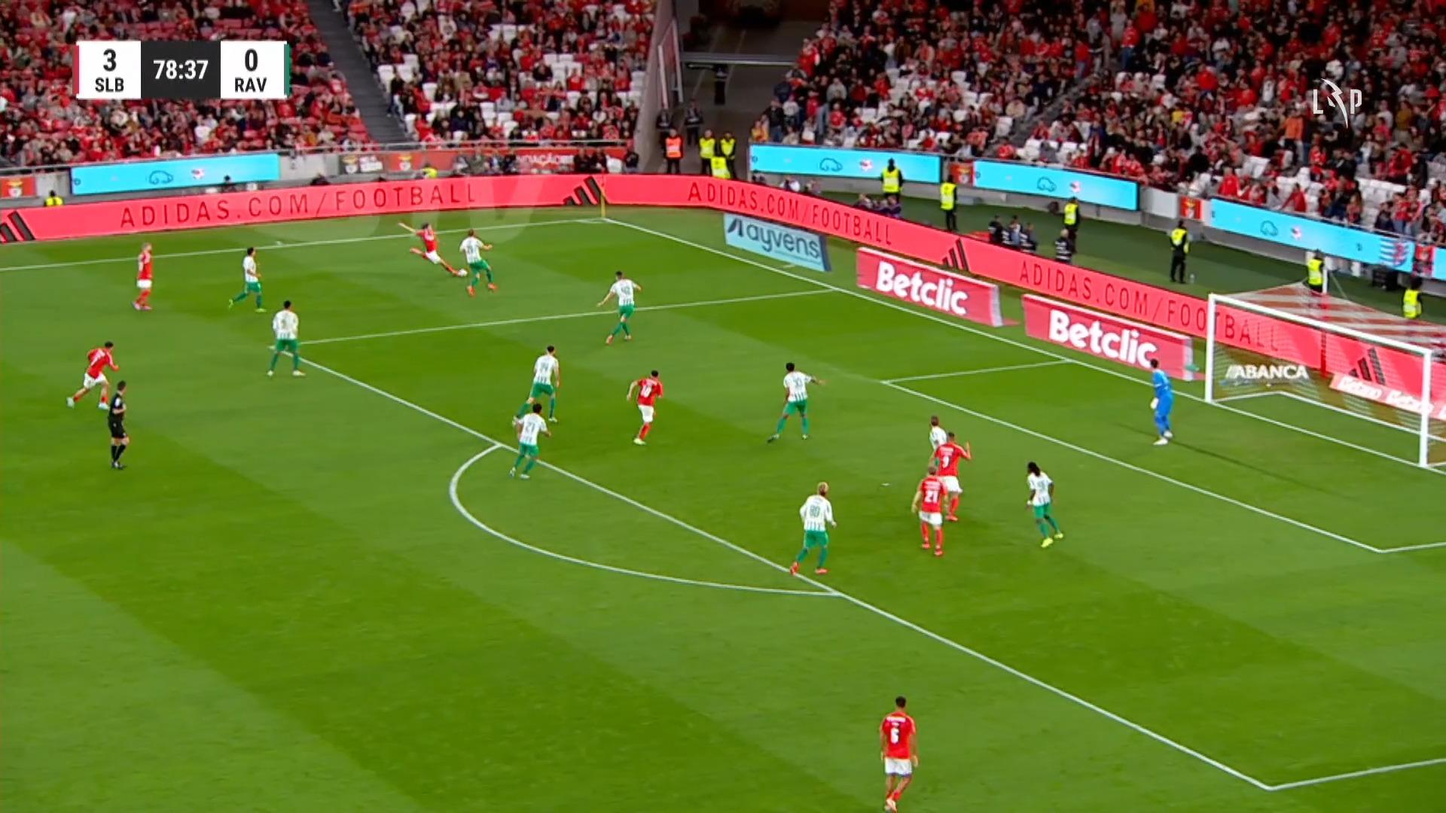ball: (458, 268, 467, 276)
goalkeeper: (1146, 357, 1174, 445)
player: (877, 695, 919, 811), (766, 361, 825, 442), (789, 480, 837, 576), (396, 220, 467, 278), (65, 340, 119, 410), (931, 430, 972, 522), (595, 269, 642, 345), (1024, 461, 1064, 548), (508, 400, 551, 480), (911, 464, 947, 557), (266, 299, 307, 377), (625, 368, 664, 445), (523, 344, 561, 423), (227, 245, 267, 313), (459, 227, 497, 297), (132, 242, 154, 310), (927, 414, 947, 468)
referee: (105, 379, 130, 469)
